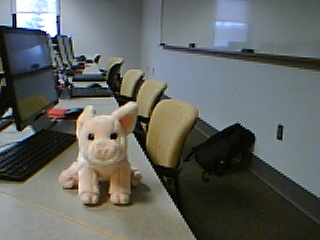piggy: (57, 100, 146, 209)
